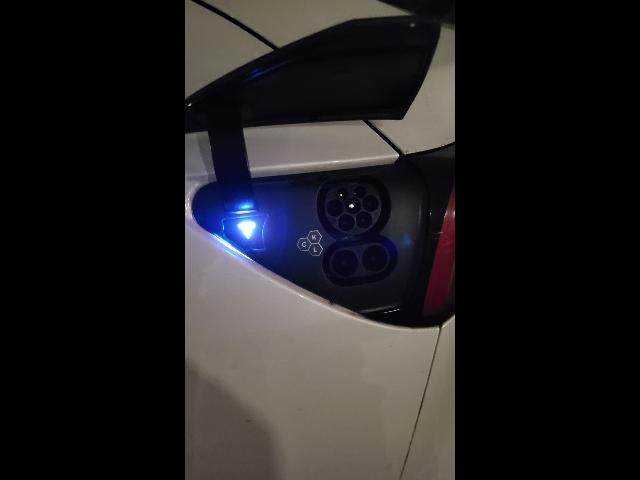inlet: (325, 184, 381, 234)
inlet-above-left: (337, 188, 348, 200)
inlet-above-right: (354, 186, 366, 198)
inlet-below-left: (338, 214, 355, 231)
inlet-below-right: (356, 212, 372, 229)
inlet-circle: (345, 197, 362, 214)
inlet-circle-left: (327, 199, 344, 216)
inlet-circle-right: (363, 195, 379, 212)
inlet-minus: (361, 245, 388, 271)
inlet-plus: (332, 250, 358, 276)
